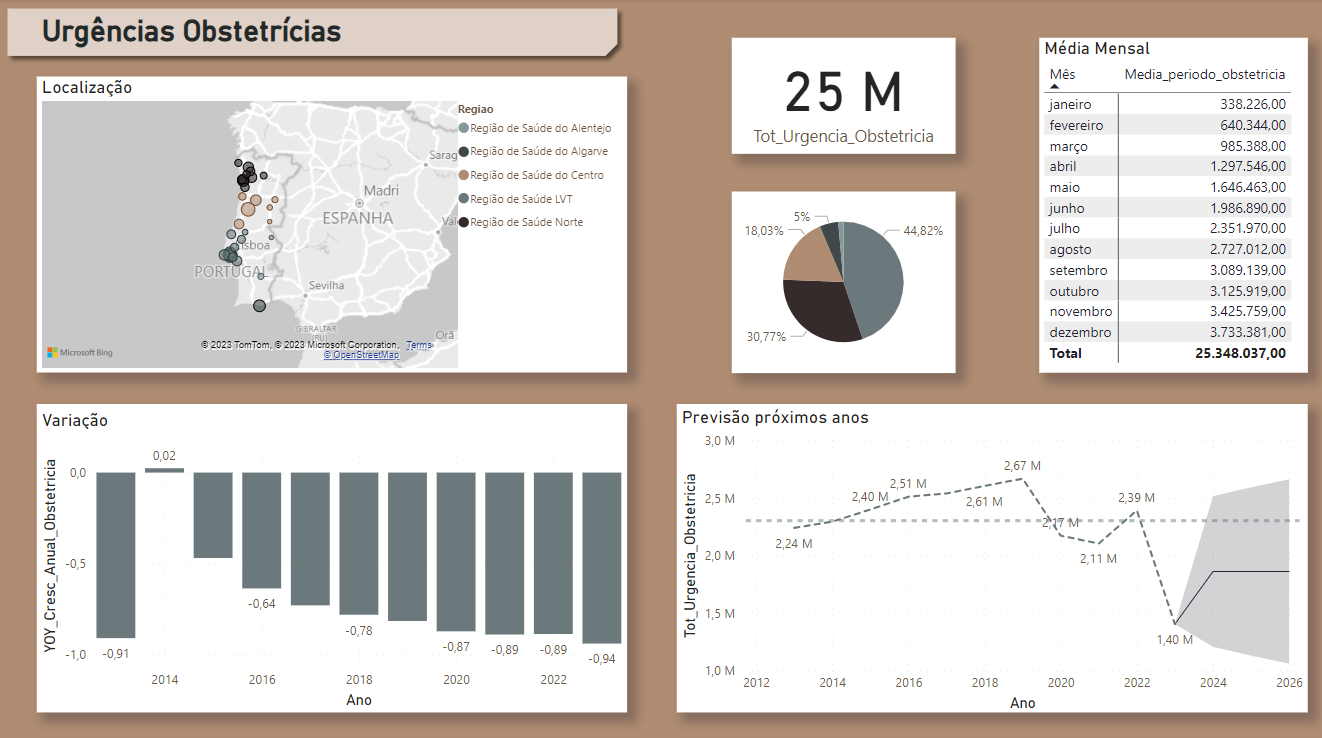

The page's visual inventory and layout, read from the dashboard file:
{"tool":"powerbi","page":{"name":"Obstetrícia","canvas":[1280,720],"ordinal":0},"visuals":[{"type":"map","title":"Localização","fields":{"Category":["atendimentos-por-tipo-de-urgencia-hospitalar-link.Localizacao_Geografica"],"Series":["atendimentos-por-tipo-de-urgencia-hospitalar-link.Regiao"],"Size":["Medidas.Tot_Urgencia_Obstetricia"]},"box":[37.4,74.8,569.2,285.8],"z":0},{"type":"lineChart","title":"Previsão próximos anos","fields":{"Category":["Date.Ano"],"Y":["Medidas.Tot_Urgencia_Obstetricia"]},"box":[654.9,390.8,609,297.9],"z":1000},{"type":"clusteredColumnChart","title":"Variação","fields":{"Category":["Date.Ano"],"Y":["_Medidas.YOY_Cresc_Anual_Obstetricia"]},"box":[37.4,390.8,569.2,297.9],"z":2000},{"type":"pivotTable","title":"Média Mensal","fields":{"Rows":["Calendario.Date.Variação.Hierarquia de Datas.Mês"],"Values":["_Medidas.Media_periodo_obstericia"]},"box":[1004.6,37.4,259.3,323.2],"z":3000},{"type":"card","fields":{"Values":["Medidas.Tot_Urgencia_Obstetricia"]},"box":[707.9,37.4,215.9,112.2],"z":4000},{"type":"pieChart","fields":{"Category":["atendimentos-por-tipo-de-urgencia-hospitalar-link.Regiao"],"Y":["Medidas.Tot_Urgencia_Obstetricia"]},"box":[707.9,185.7,215.9,174.9],"z":5000},{"type":"shape","box":[0,0,606.6,63.9],"z":6000},{"type":"textbox","box":[37.4,8.4,312.4,49.4],"z":7000}]}

Visuals, with their boxes in screenshot pixels (x1, y1, x2, y2), scaled from the page's 1280x720 canvas onto the 1322x738 screenshot:
"Localização" map: (left=39, top=77, right=627, bottom=370)
"Previsão próximos anos" lineChart: (left=676, top=401, right=1305, bottom=706)
"Variação" clusteredColumnChart: (left=39, top=401, right=627, bottom=706)
"Média Mensal" pivotTable: (left=1038, top=38, right=1305, bottom=370)
card - Medidas.Tot_Urgencia_Obstetricia: (left=731, top=38, right=954, bottom=153)
pieChart - atendimentos-por-tipo-de-urgencia-hospitalar-link.Regiao x Medidas.Tot_Urgencia_Obstetricia: (left=731, top=190, right=954, bottom=370)
shape: (left=0, top=0, right=627, bottom=65)
textbox: (left=39, top=9, right=361, bottom=59)
